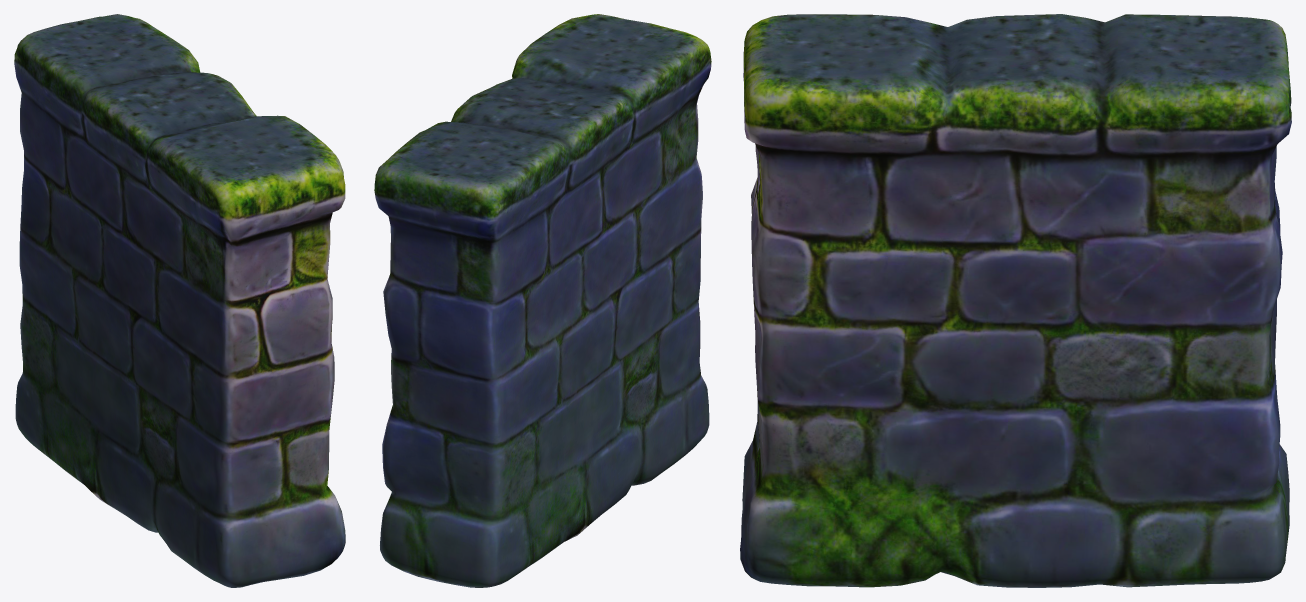
The model's file is 2b2ceb9651c8_stylized_low_polygo.fbx.
3 views of the same model, side by side, from view 1: azimuth 30°, elevation 25°; view 2: azimuth 150°, elevation 25°; view 3: azimuth 270°, elevation 25° (orthographic). The views are drawn at different scales.
Parts seen in each view (by area): view 1: mesh; view 2: mesh; view 3: mesh.
Boxes of the visible parts, left/top/right/bottom form: mesh: left=14, top=14, right=345, bottom=587; mesh: left=374, top=14, right=711, bottom=587; mesh: left=740, top=14, right=1291, bottom=587.
Size of the model in its own units: 33.94 by 99.89 by 97.52.
